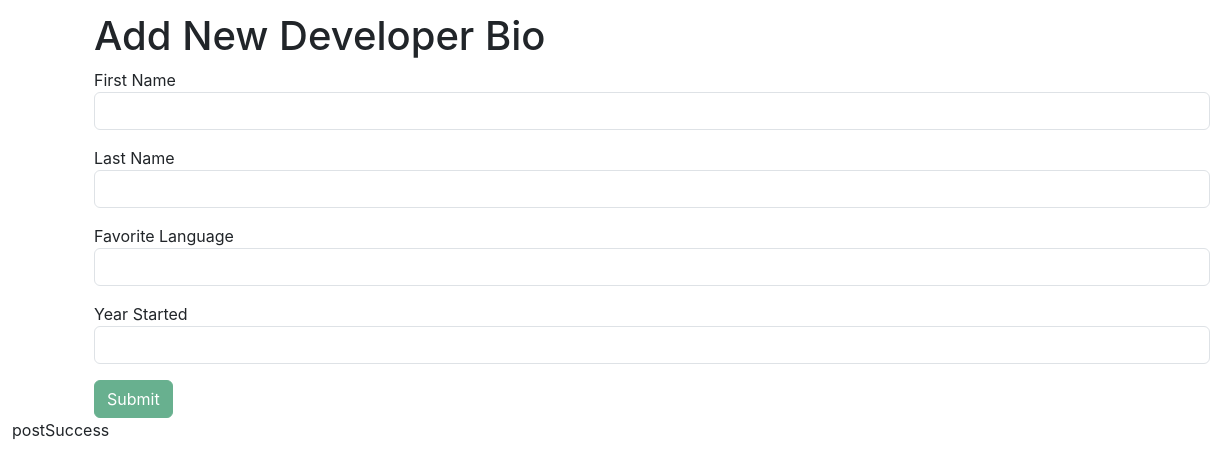
Test: should display an error message if the POST request fails
The image size is (1227, 475).
Type "Jason" into the field with test id "firstName". click: (652, 111)
box: [94, 92, 1210, 130]
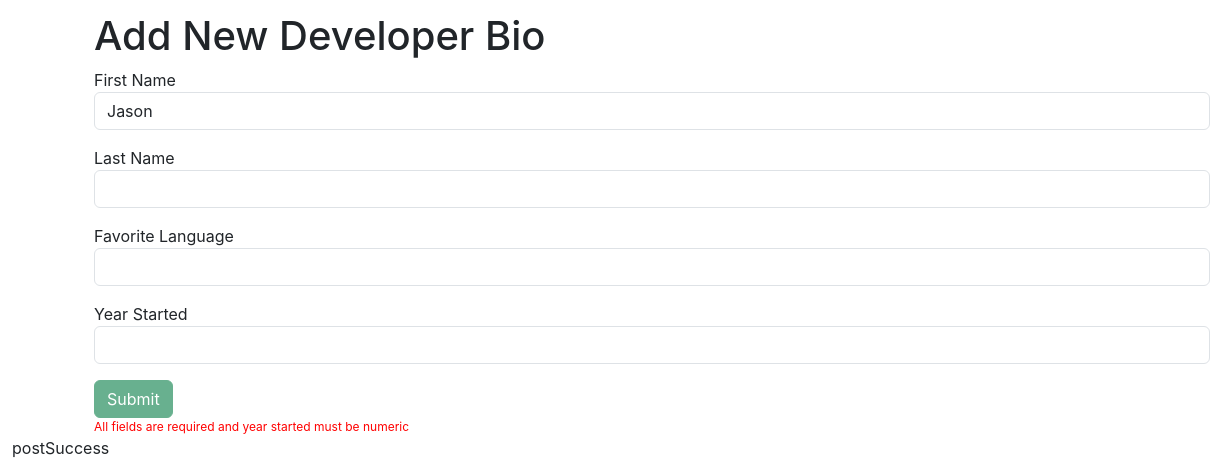
Type "Monroe" into the field with test id "lastName". click: (652, 189)
box: [94, 170, 1210, 208]
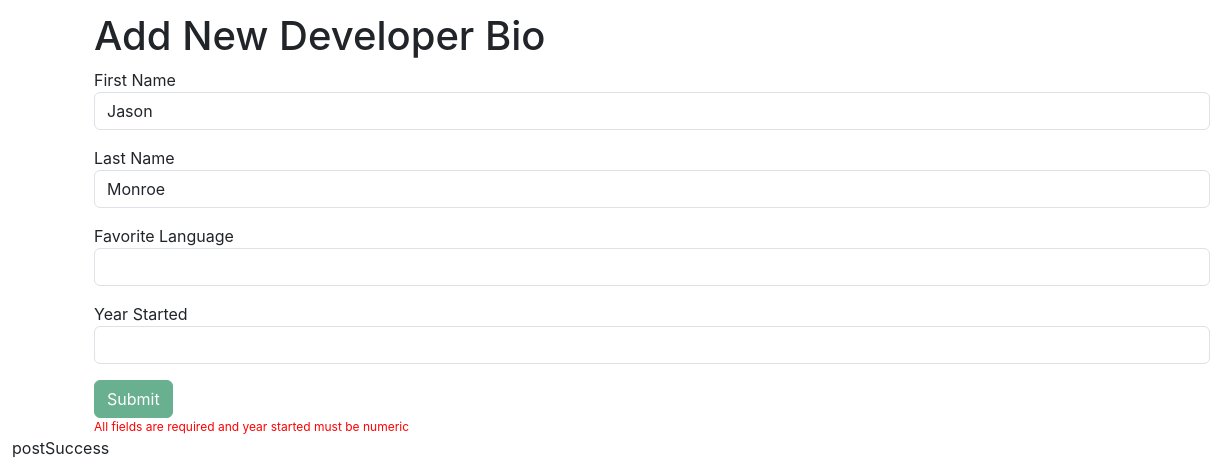
Type "JavaScript" into the field with test id "favoriteLanguage". click: (652, 267)
box: [94, 248, 1210, 286]
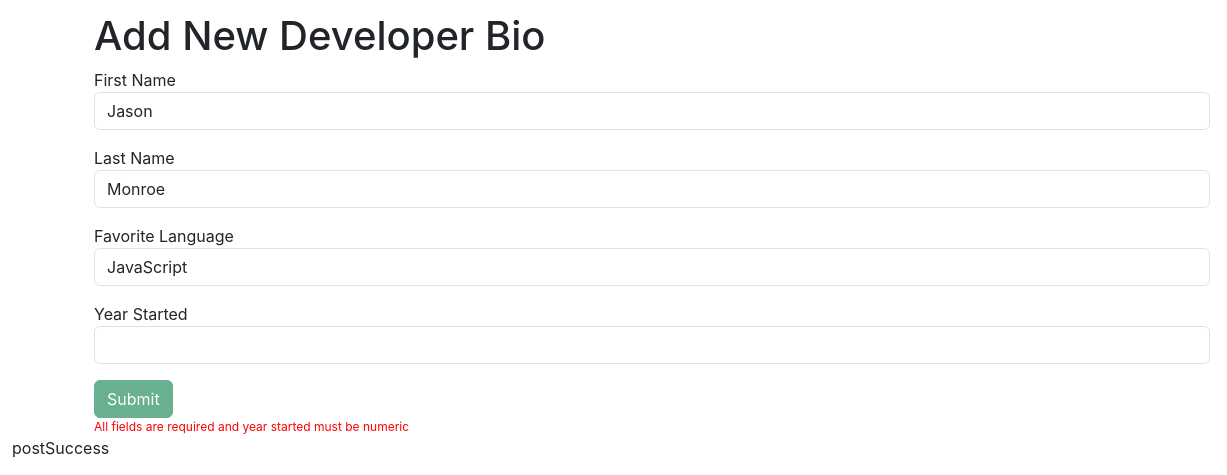
Type "1999" into the field with test id "yearStarted". click: (652, 345)
box: [94, 326, 1210, 364]
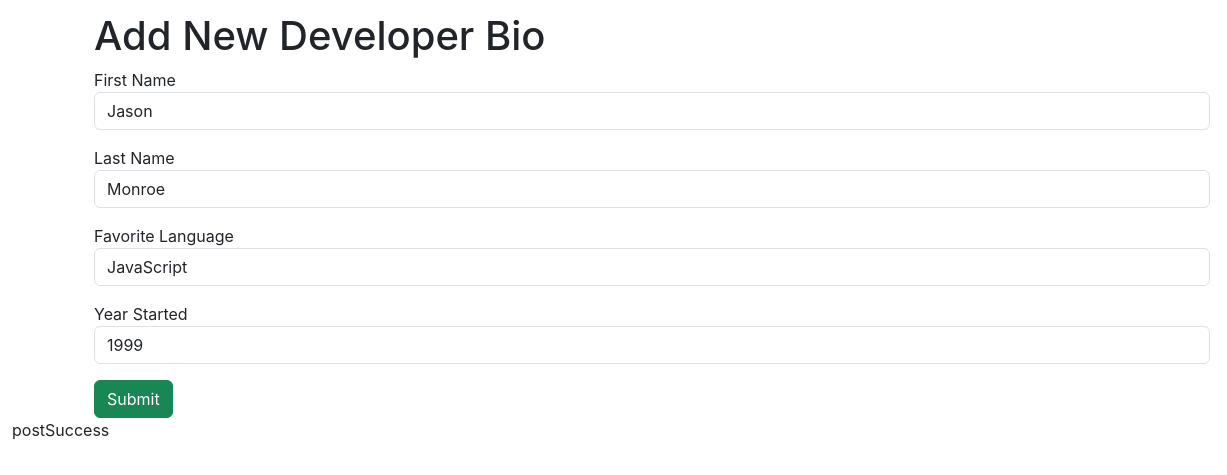
Click the button "Submit". click: (133, 399)
box: [94, 380, 173, 418]
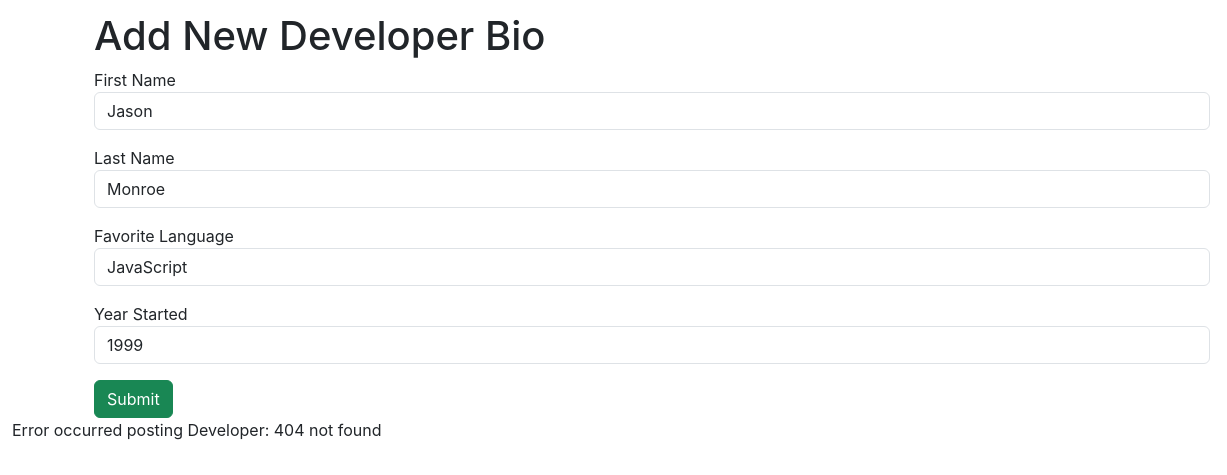
Expected: the text "Error occurred posting Developer: 404 not found" is shown, [12, 420, 382, 440]
